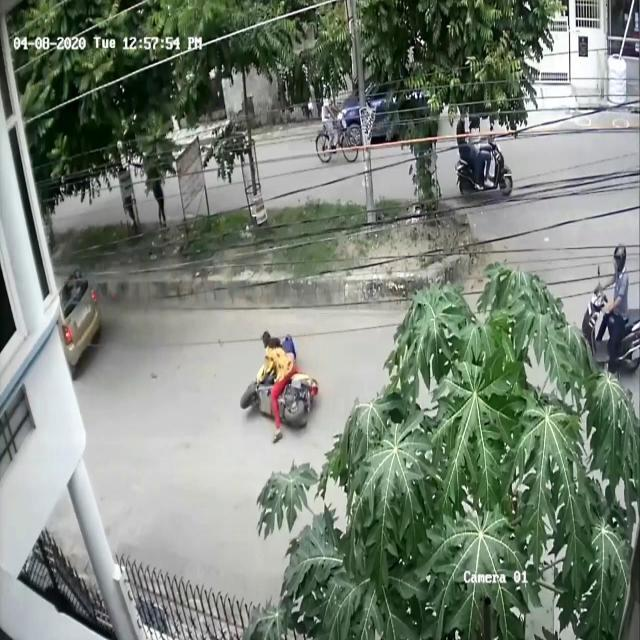accident: (236, 321, 320, 451)
